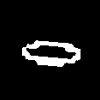chain: (22, 40, 79, 66)
